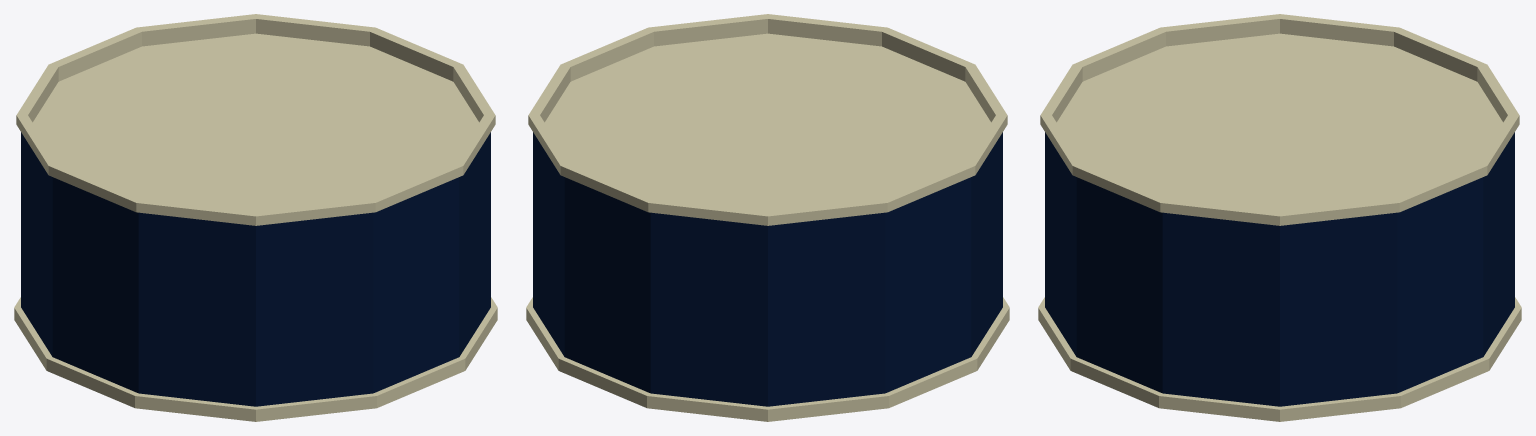
The model's file is Canned_Sprat_mat.fbx.
The picture shows the model from 3 angles, left to right: view 1: azimuth 30°, elevation 25°; view 2: azimuth 150°, elevation 25°; view 3: azimuth 270°, elevation 25°; orthographic projection.
Visible parts, largest first — view 1: Canned_Sprat_mat; view 2: Canned_Sprat_mat; view 3: Canned_Sprat_mat.
Part boxes in pixels (x1,y1,x2,y2): Canned_Sprat_mat: (14, 14, 497, 421); Canned_Sprat_mat: (526, 14, 1009, 421); Canned_Sprat_mat: (1038, 14, 1521, 421).
Bounding box in the file's own units: 9.86 × 4.6 × 9.86.
